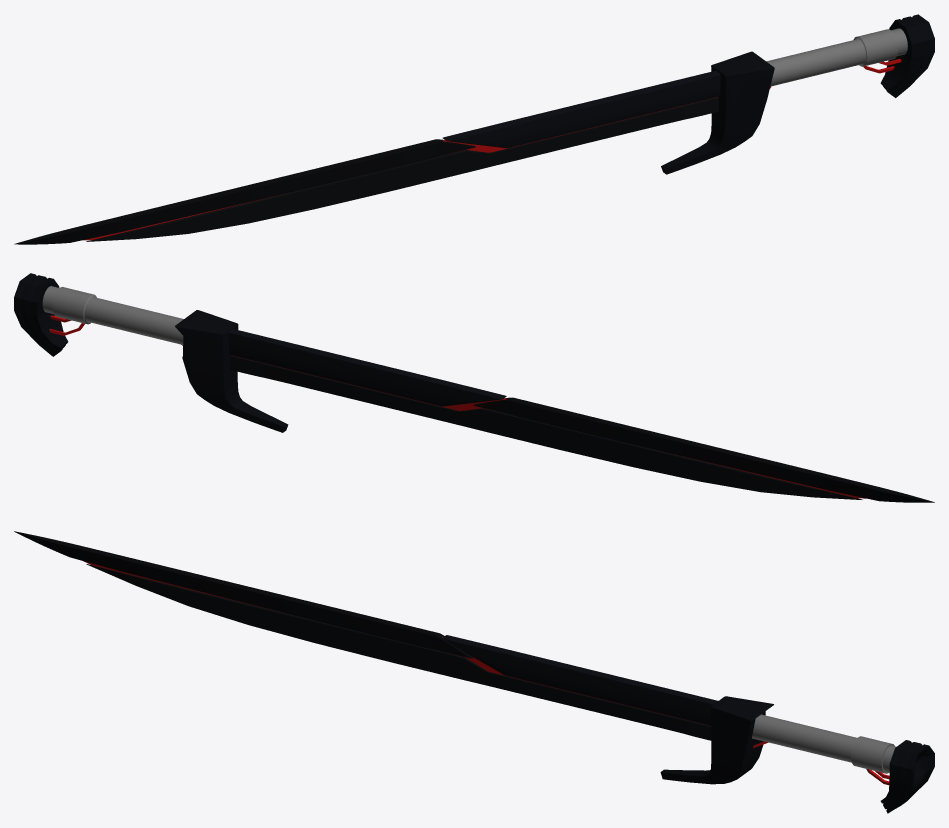
File: Sword.FBX
3 renders of one model, top to bottom at view 1: azimuth 30°, elevation 25°; view 2: azimuth 150°, elevation 25°; view 3: azimuth 330°, elevation 25°, orthographic.
Visible parts, largest first — view 1: polySurface35; view 2: polySurface35; view 3: polySurface35.
Part boxes in pixels (x1=…): polySurface35: x1=14, y1=14, x2=934, y2=244; polySurface35: x1=14, y1=273, x2=934, y2=502; polySurface35: x1=14, y1=531, x2=934, y2=813.
Size of the model in its own units: 10.47 by 1.01 by 0.4572.
